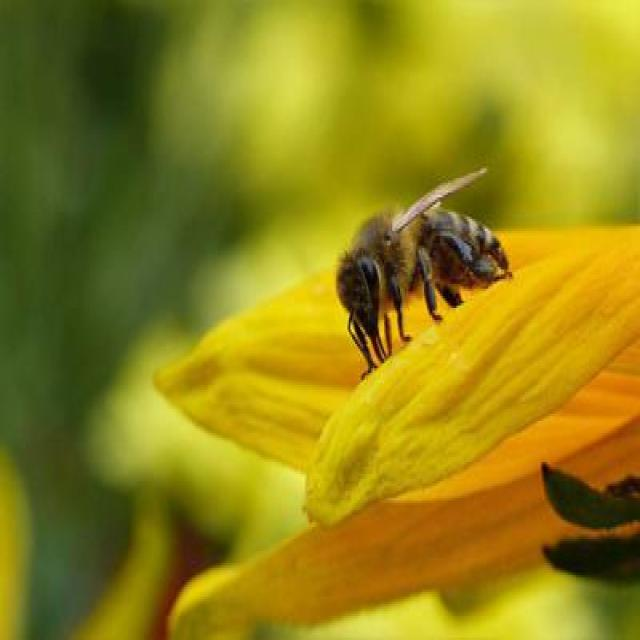antennae: (346, 312, 369, 353)
body: (335, 210, 514, 319)
insect: (332, 163, 514, 388)
legs: (426, 223, 504, 287), (385, 260, 414, 342), (416, 247, 444, 327), (382, 313, 392, 353)
mouthpart: (362, 313, 380, 337)
wings: (392, 166, 489, 235)
